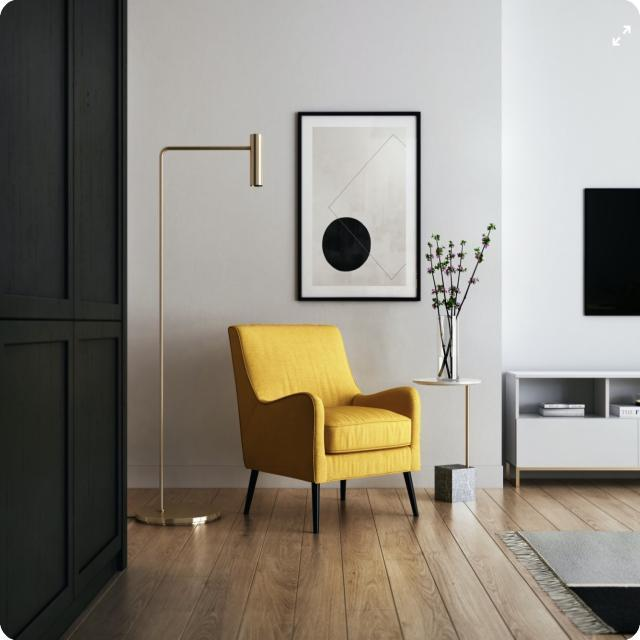lamp: (138, 127, 270, 528)
picture: (294, 112, 421, 306)
potted plant: (427, 224, 490, 374)
sofa: (227, 314, 420, 528)
